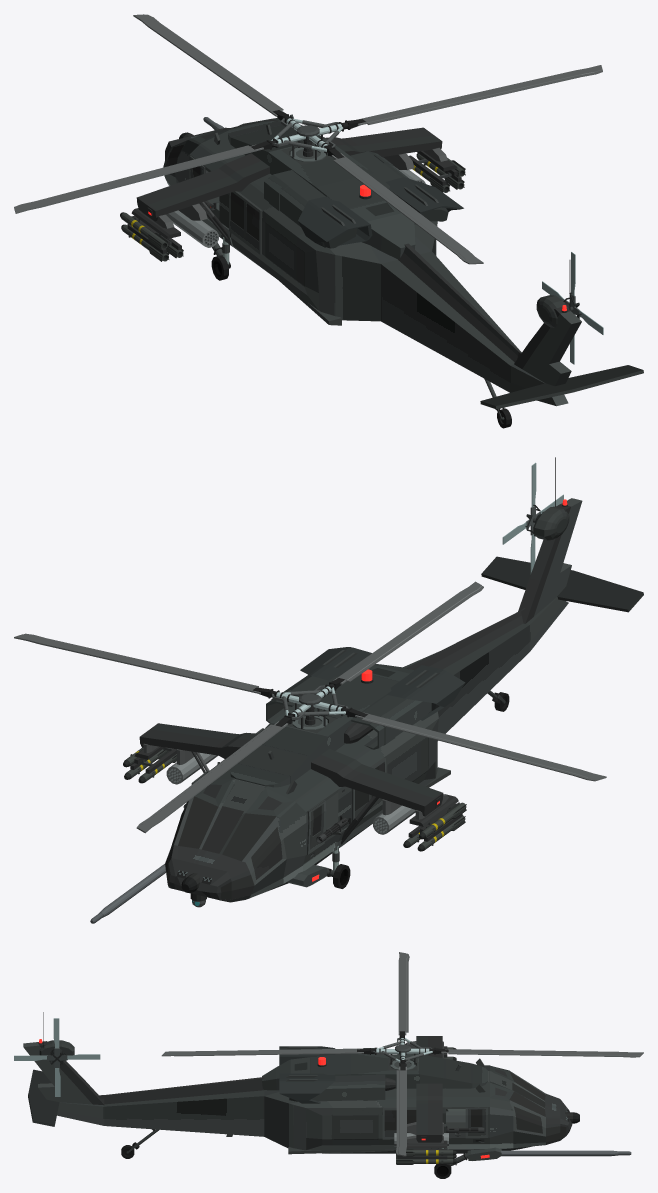
The model's file is helicoptero.glb.
3 renders of one model, top to bottom at view 1: azimuth 30°, elevation 25°; view 2: azimuth 150°, elevation 25°; view 3: azimuth 270°, elevation 25°, orthographic. The views are drawn at different scales.
Visible parts, largest first — view 1: group_75, cylinder_10, group43_62, group33_53, mesh_selection_3, group49_71, group15_24, group4_7; view 2: group_75, cylinder_10, group43_62, group33_53, group15_24, cylinder_32, mesh_selection_selection_selection_4, group36_49, mesh_selection_3, group49_71; view 3: group_75, cylinder_10, group33_53, group15_24, cylinder_32, mesh_selection_selection_selection_1, mesh_selection_0, group43_62.
Part boxes in pixels (x1,y1,x2,y2): group_75: (163, 114, 643, 428); cylinder_10: (14, 14, 602, 264); group43_62: (127, 153, 269, 253); group33_53: (326, 127, 461, 185); mesh_selection_3: (229, 191, 262, 254); group49_71: (166, 210, 218, 247); group15_24: (542, 252, 603, 364); group4_7: (322, 207, 448, 248); group_75: (165, 457, 643, 902); cylinder_10: (14, 581, 606, 833); group43_62: (311, 749, 462, 844); group33_53: (130, 723, 258, 773); group15_24: (502, 462, 563, 574); cylinder_32: (90, 864, 165, 923); mesh_selection_selection_selection_4: (307, 800, 326, 854); group36_49: (166, 753, 217, 784); mesh_selection_3: (351, 758, 386, 821); group49_71: (373, 805, 415, 834); group_75: (23, 1012, 579, 1178); cylinder_10: (161, 952, 643, 1156); group33_53: (397, 1083, 447, 1159); group15_24: (14, 1018, 100, 1096); cylinder_32: (501, 1150, 631, 1156); mesh_selection_selection_selection_1: (465, 1107, 487, 1138); mesh_selection_0: (382, 1107, 416, 1139); group43_62: (397, 1036, 447, 1058).
Size of the model in its own units: 10.24 by 3.47 by 13.37.
Materials: 15 (15 with a texture image).
